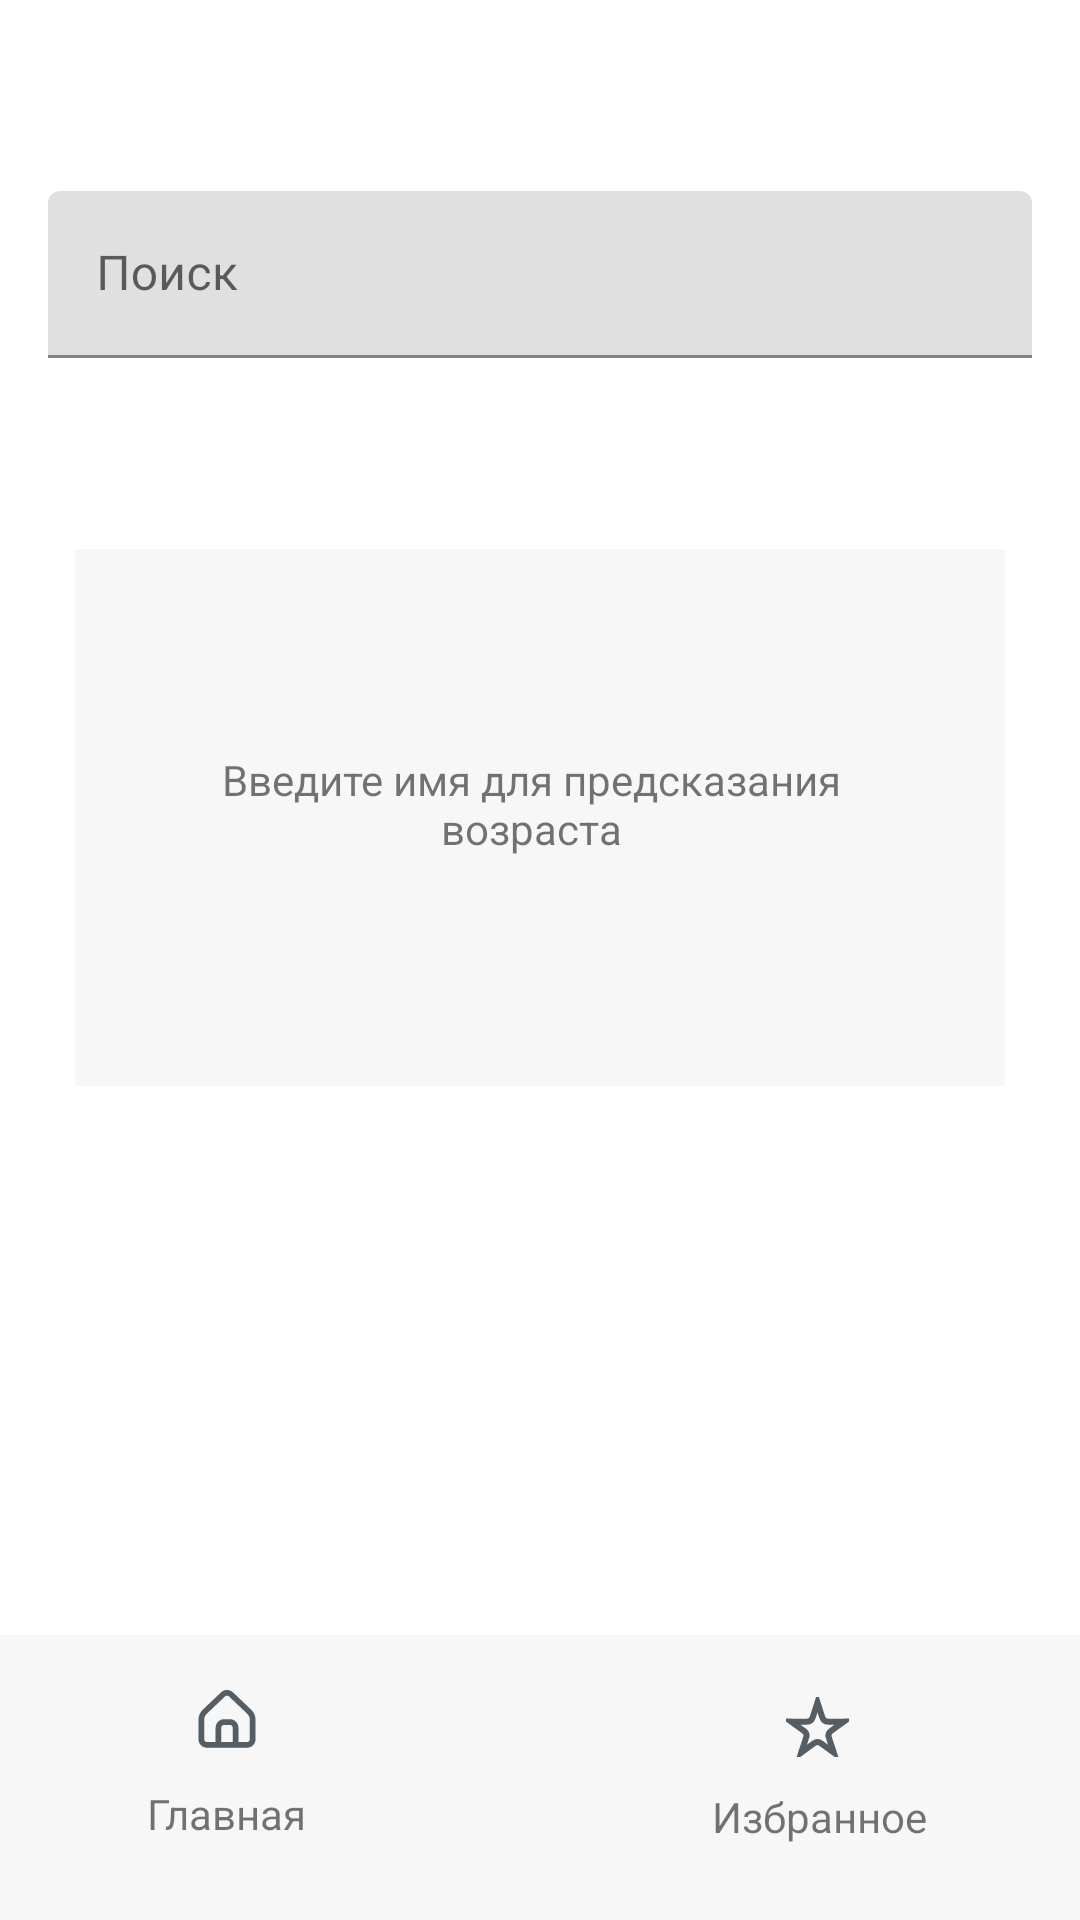

Screen size 1080x1920. Icon name, then its box in pixels as (x1, y1, x2, y2):
star: (786, 1697, 849, 1757)
